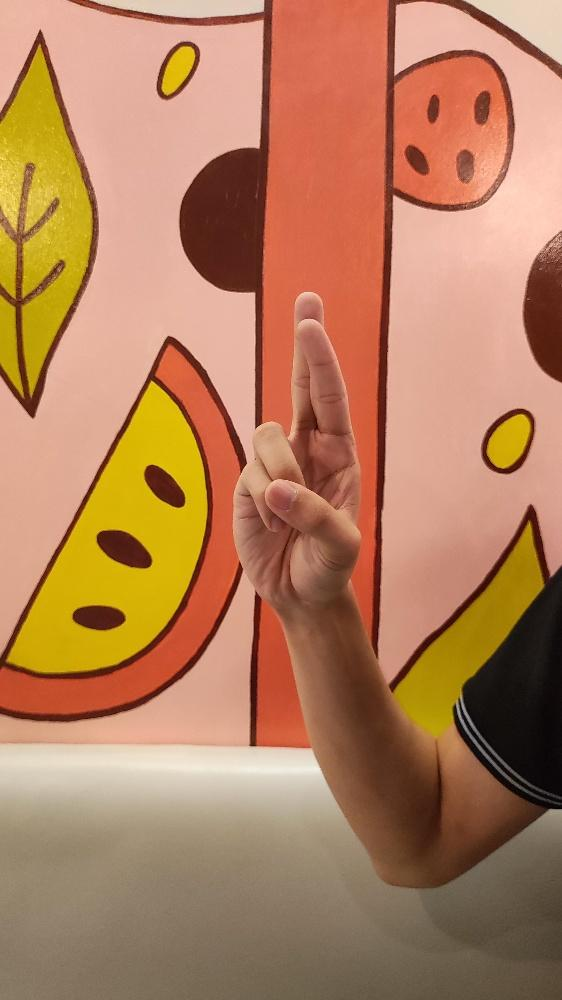r: (230, 289, 364, 610)
